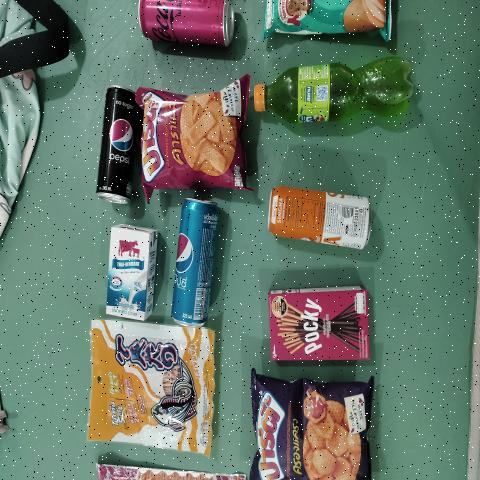coke_red: (140, 0, 228, 41)
fanta_green: (254, 55, 413, 126)
party_purple: (262, 391, 368, 478)
party_red: (145, 94, 242, 187)
pepsi_black: (98, 85, 128, 202)
pepsi_blue: (172, 196, 213, 328)
pokki: (272, 284, 370, 359)
singha_yellow: (264, 183, 374, 248)
taro_yellow: (89, 324, 204, 450)
thai_denmark: (107, 224, 149, 319)
